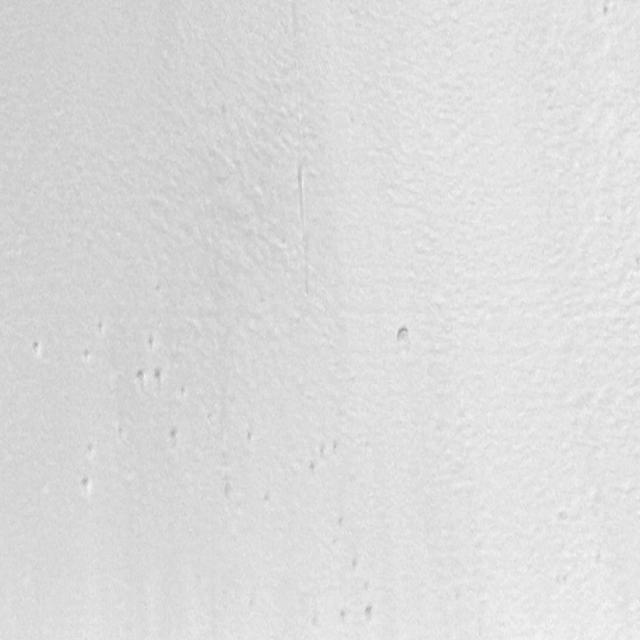pin holes: (392, 322, 413, 348), (134, 367, 150, 391), (600, 1, 620, 20), (361, 604, 379, 625), (80, 475, 96, 496), (152, 367, 167, 388), (167, 426, 181, 446), (30, 339, 44, 358), (225, 479, 234, 506), (306, 459, 320, 476), (144, 334, 157, 352), (337, 609, 351, 625), (95, 321, 108, 338), (348, 556, 361, 573), (262, 489, 272, 511), (82, 346, 95, 362), (85, 442, 98, 458), (246, 427, 254, 445), (331, 439, 338, 457)
